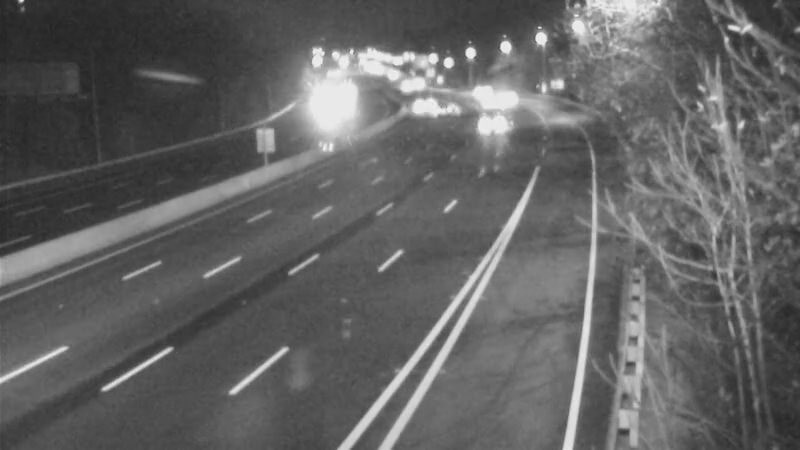vehicle: (394, 78, 444, 128), (455, 73, 505, 123), (416, 86, 466, 136), (464, 101, 514, 151)
